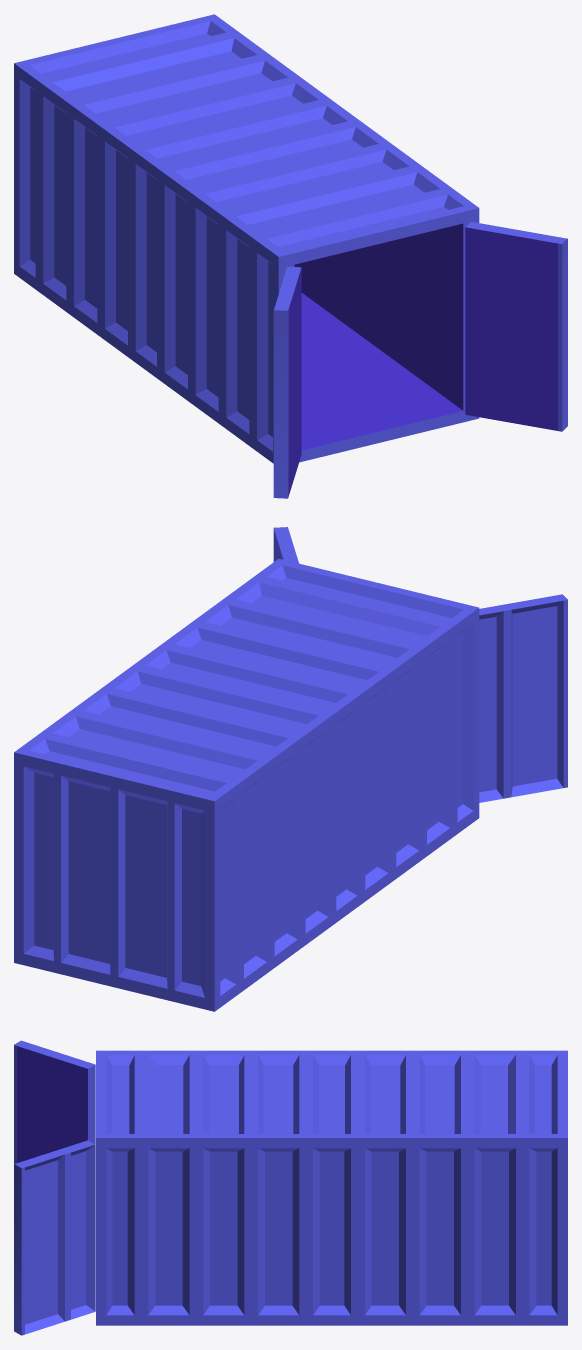
Rendered from container.fbx.
3 renders of one model, top to bottom at view 1: azimuth 30°, elevation 25°; view 2: azimuth 150°, elevation 25°; view 3: azimuth 270°, elevation 25°, orthographic. The views are drawn at different scales.
Parts seen in each view (by area): view 1: container; view 2: container; view 3: container.
Part boxes in pixels (x1,y1,x2,y2): container: (14,14,567,498); container: (14,527,567,1011); container: (14,1040,567,1335).
Size of the model in its own units: 1145 by 782 by 2093.
